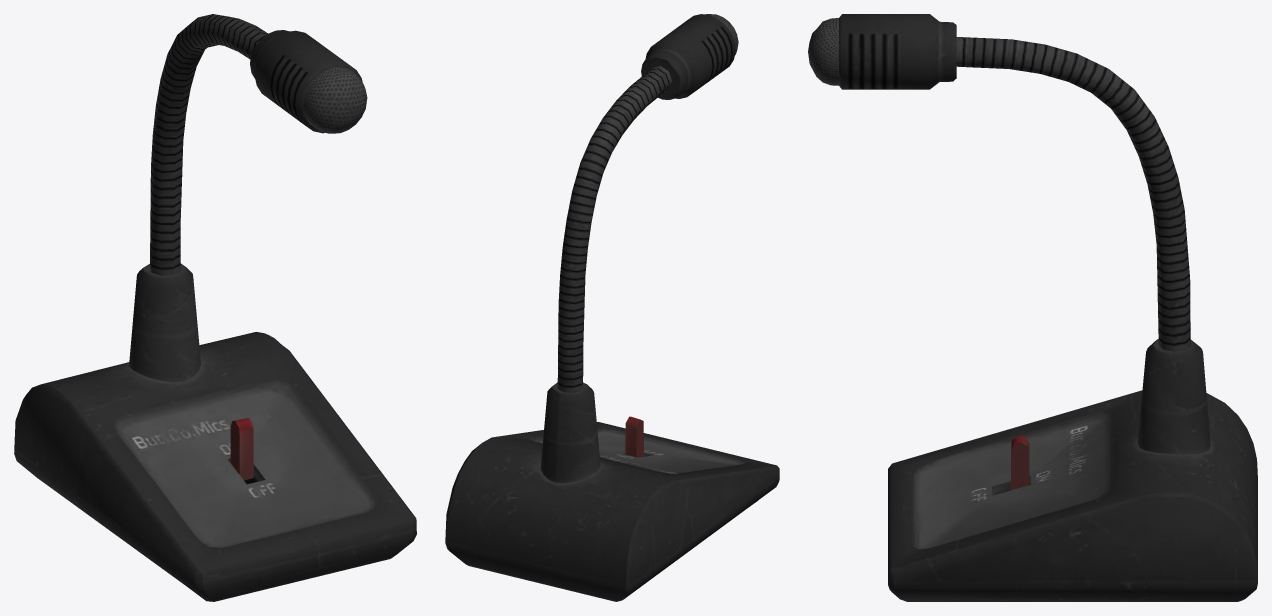
Rendered from intercommic.glb.
The picture shows the model from 3 angles, left to right: view 1: azimuth 30°, elevation 25°; view 2: azimuth 150°, elevation 25°; view 3: azimuth 270°, elevation 25°; orthographic projection. The views are drawn at different scales.
Visible parts, largest first — view 1: IntercomMic_LOD0; view 2: IntercomMic_LOD0; view 3: IntercomMic_LOD0.
Part boxes in pixels (box(x1,y1,x2,y2)): IntercomMic_LOD0: box(14, 14, 416, 601); IntercomMic_LOD0: box(445, 14, 779, 601); IntercomMic_LOD0: box(808, 14, 1257, 601).
Size of the model in its own units: 0.1202 by 0.2771 by 0.2095.
Materials: 1 (1 with a texture image).
